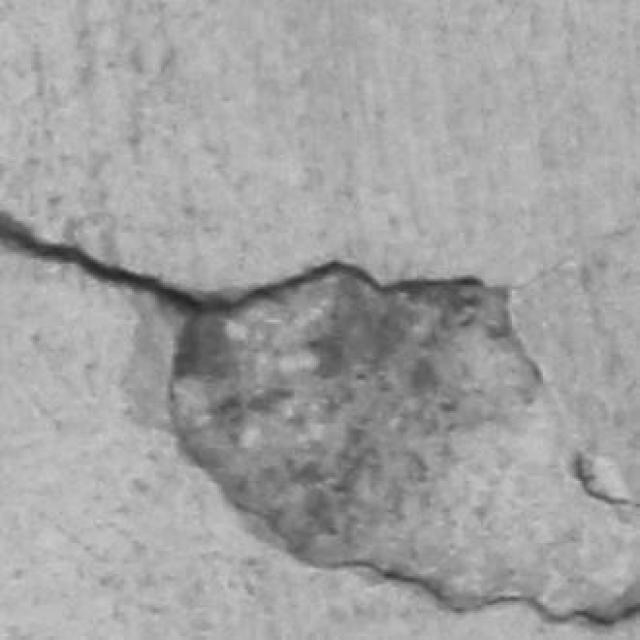crack: (0, 210, 335, 314), (0, 210, 211, 312), (332, 561, 639, 626), (571, 452, 639, 508)
